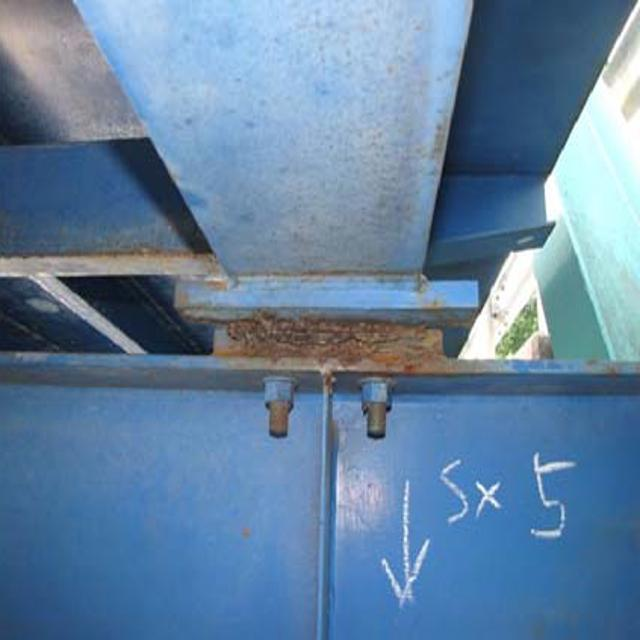corrosion: (154, 237, 482, 443)
